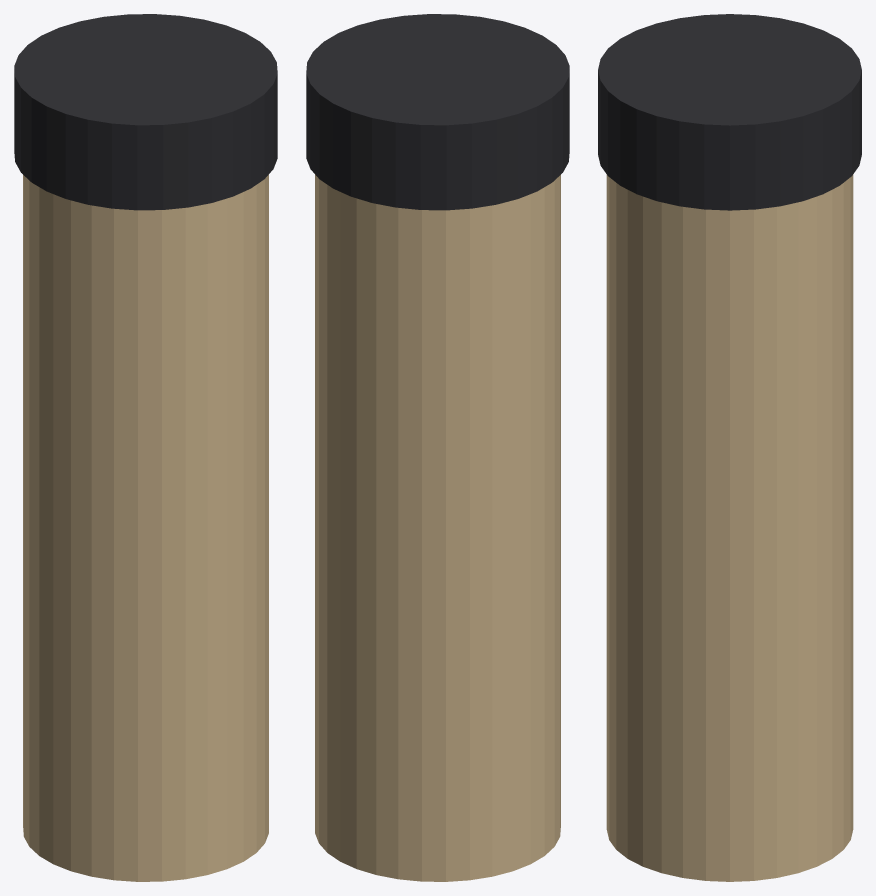
The model's file is funnel.glb.
The picture shows the model from 3 angles, left to right: view 1: azimuth 30°, elevation 25°; view 2: azimuth 150°, elevation 25°; view 3: azimuth 270°, elevation 25°; orthographic projection.
Parts seen in each view (by area): view 1: FunnelBody, FunnelCap; view 2: FunnelBody, FunnelCap; view 3: FunnelBody, FunnelCap.
Part boxes in pixels (<box>): FunnelBody: <box>23,174,268,881</box>; FunnelCap: <box>14,14,277,210</box>; FunnelBody: <box>315,174,560,881</box>; FunnelCap: <box>306,14,569,210</box>; FunnelBody: <box>606,174,853,881</box>; FunnelCap: <box>598,14,861,210</box>.
Size of the model in its own units: 0.9 by 2.86 by 0.9.
